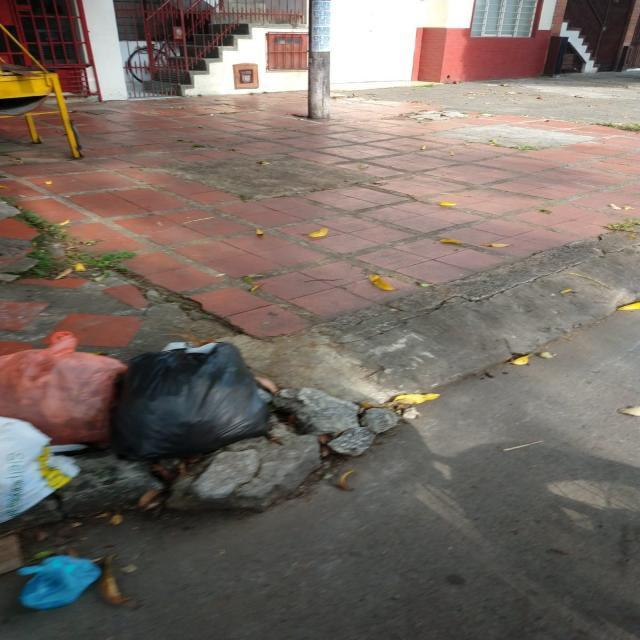Trashbag: (102, 332, 276, 462)
